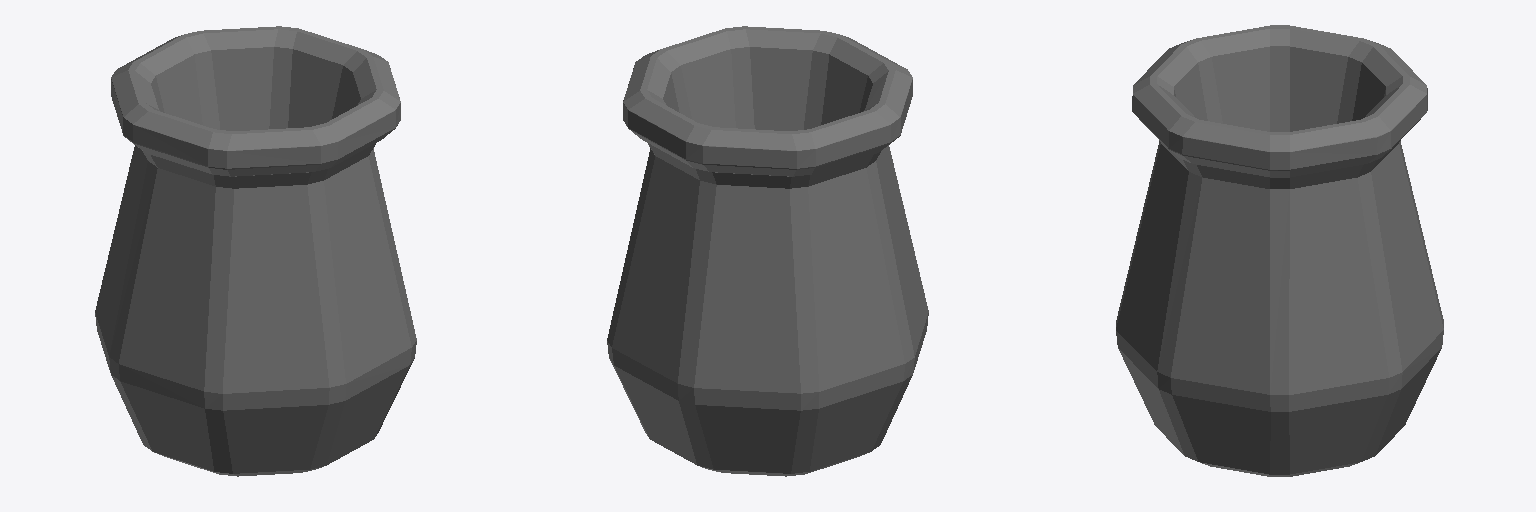
Rendered from vase.obj.
The picture shows the model from 3 angles: view 1: azimuth 30°, elevation 25°; view 2: azimuth 150°, elevation 25°; view 3: azimuth 270°, elevation 25°; orthographic projection.
Visible parts, largest first — view 1: pCylinder11; view 2: pCylinder11; view 3: pCylinder11.
Boxes of the visible parts, box(x1,y1,x2,y2) form: pCylinder11: box(95, 26, 416, 476); pCylinder11: box(607, 26, 928, 476); pCylinder11: box(1116, 25, 1443, 476).
Bounding box in the file's own units: 0.5319 × 0.628 × 0.5319.